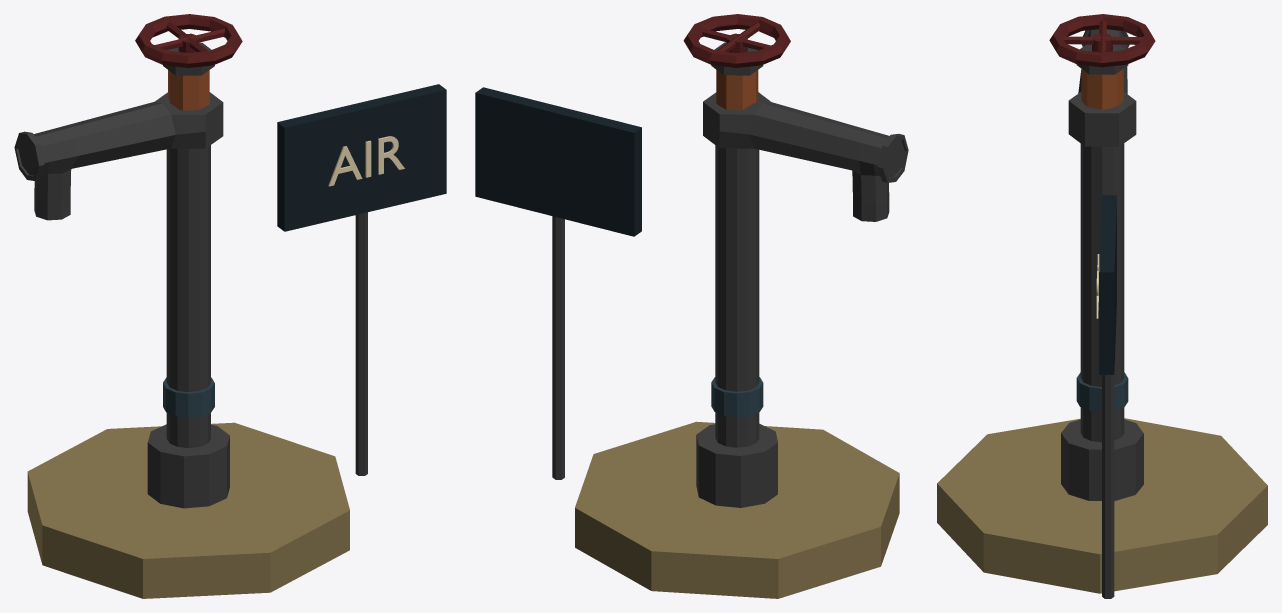
The model's file is aerr.fbx.
3 renders of one model, left to right at view 1: azimuth 30°, elevation 25°; view 2: azimuth 150°, elevation 25°; view 3: azimuth 270°, elevation 25°, orthographic.
Parts seen in each view (by area): view 1: Tap_Concrete_Pad; view 2: Tap_Concrete_Pad; view 3: Tap_Concrete_Pad.
Part boxes in pixels (box(x1,y1,x2,y2)): Tap_Concrete_Pad: box(14, 14, 446, 598); Tap_Concrete_Pad: box(475, 14, 908, 598); Tap_Concrete_Pad: box(937, 14, 1267, 598).
Bounding box in the file's own units: 121 × 138 × 84.35.
